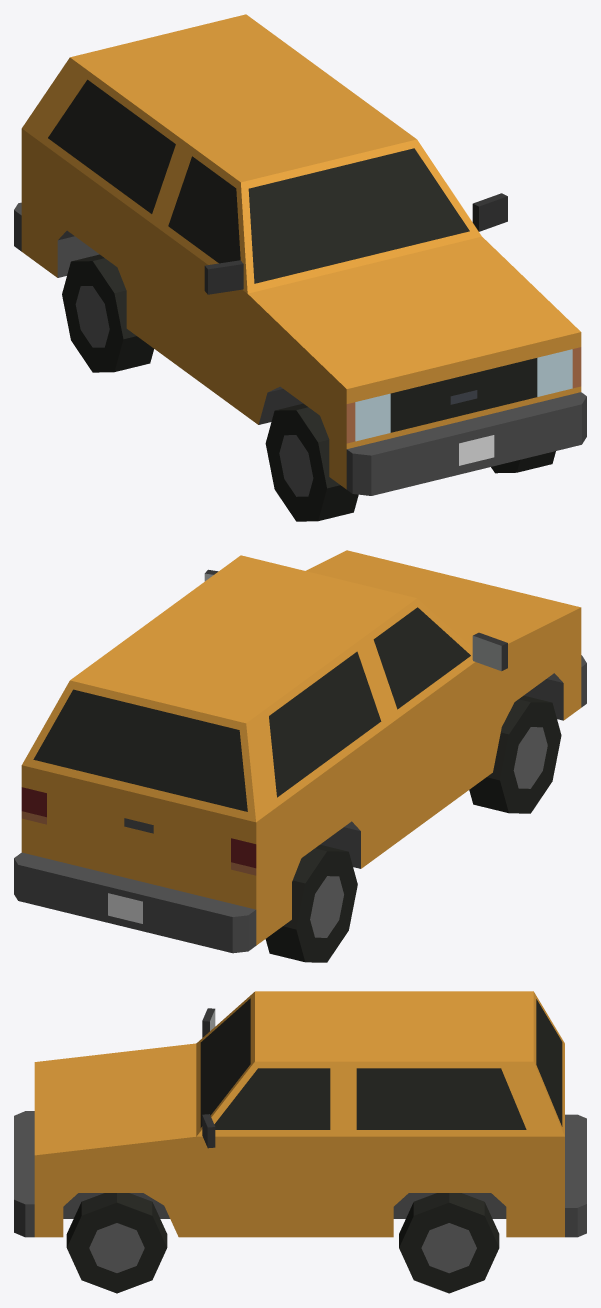
Rendered from Veh_SUV_02_Yellow.glb.
3 views of the same model, one above another, from view 1: azimuth 30°, elevation 25°; view 2: azimuth 150°, elevation 25°; view 3: azimuth 270°, elevation 25° (orthographic). The views are drawn at different scales.
Visible parts, largest first — view 1: SUV_02_Yellow, Wheel_RR, Wheel_FR, Wheel_FL; view 2: SUV_02_Yellow, Wheel_RR, Wheel_FR; view 3: SUV_02_Yellow, Wheel_FL, Wheel_RL.
Part boxes in pixels (left/top/right/bottom): SUV_02_Yellow: left=14, top=14, right=586, bottom=495; Wheel_RR: left=62, top=254, right=153, bottom=372; Wheel_FR: left=265, top=403, right=358, bottom=521; Wheel_FL: left=491, top=451, right=555, bottom=473; SUV_02_Yellow: left=14, top=550, right=586, bottom=953; Wheel_RR: left=265, top=844, right=357, bottom=962; Wheel_FR: left=469, top=695, right=561, bottom=813; SUV_02_Yellow: left=14, top=991, right=586, bottom=1237; Wheel_FL: left=66, top=1193, right=167, bottom=1293; Wheel_RL: left=399, top=1193, right=499, bottom=1293.
Size of the model in its own units: 1.27 by 1.1 by 2.58.
Materials: 1 (1 with a texture image).
